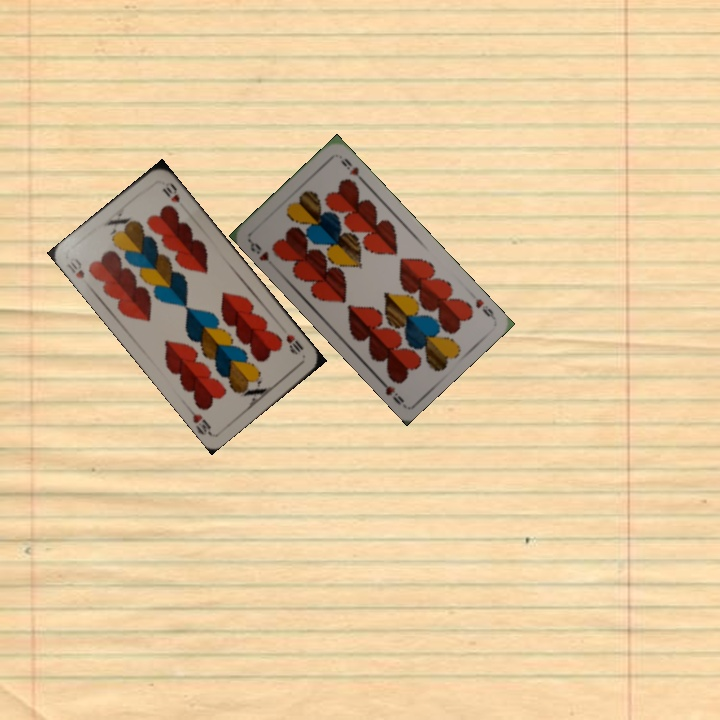H10: (282, 330, 306, 358), (63, 253, 87, 281)
H9: (245, 236, 272, 263), (471, 295, 497, 321)
